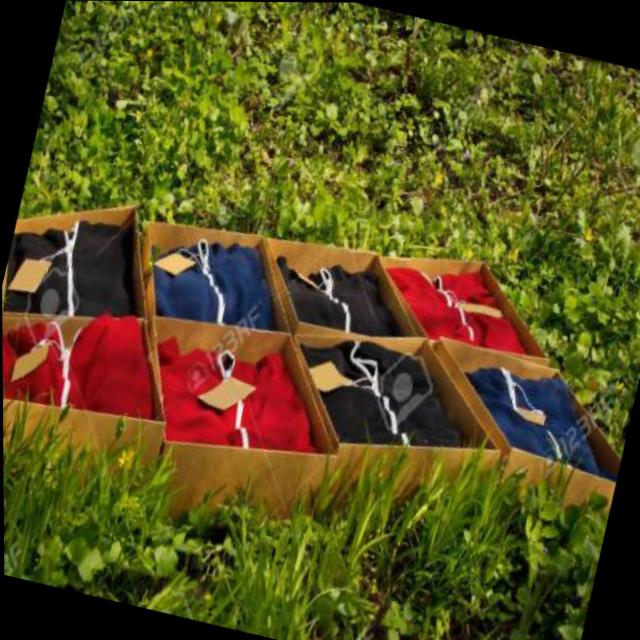box: (107, 297, 369, 567), (256, 306, 533, 544), (411, 322, 640, 590), (2, 272, 197, 541), (113, 175, 316, 360), (365, 209, 578, 366), (246, 211, 446, 361), (1, 169, 159, 339)
